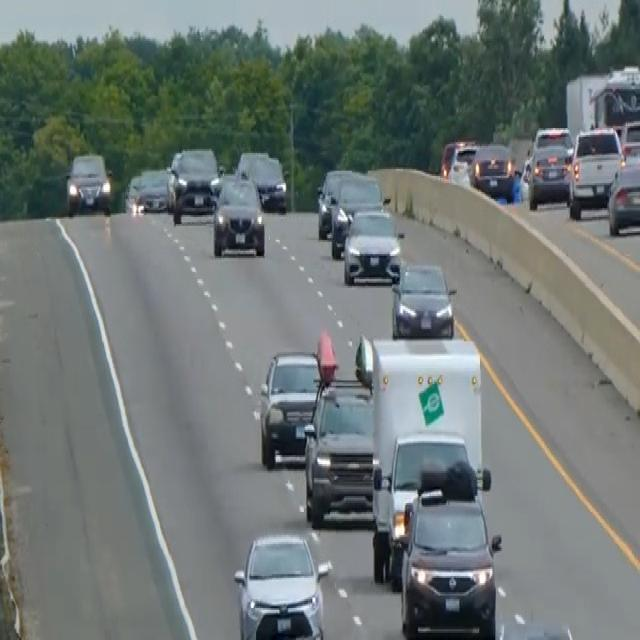car: (302, 375, 375, 526), (232, 530, 328, 638), (258, 347, 323, 468), (567, 123, 624, 217), (390, 260, 455, 340), (342, 205, 403, 286), (212, 170, 265, 258), (329, 174, 383, 258), (168, 144, 221, 222), (64, 149, 112, 215), (236, 150, 287, 212), (527, 140, 572, 208), (469, 140, 516, 201), (315, 166, 354, 238), (607, 158, 639, 235), (439, 137, 478, 185), (136, 167, 170, 213), (531, 124, 573, 160), (236, 148, 269, 178), (124, 171, 143, 213), (619, 116, 639, 154)
minivan: (397, 458, 502, 636)
truck: (363, 334, 490, 585)
